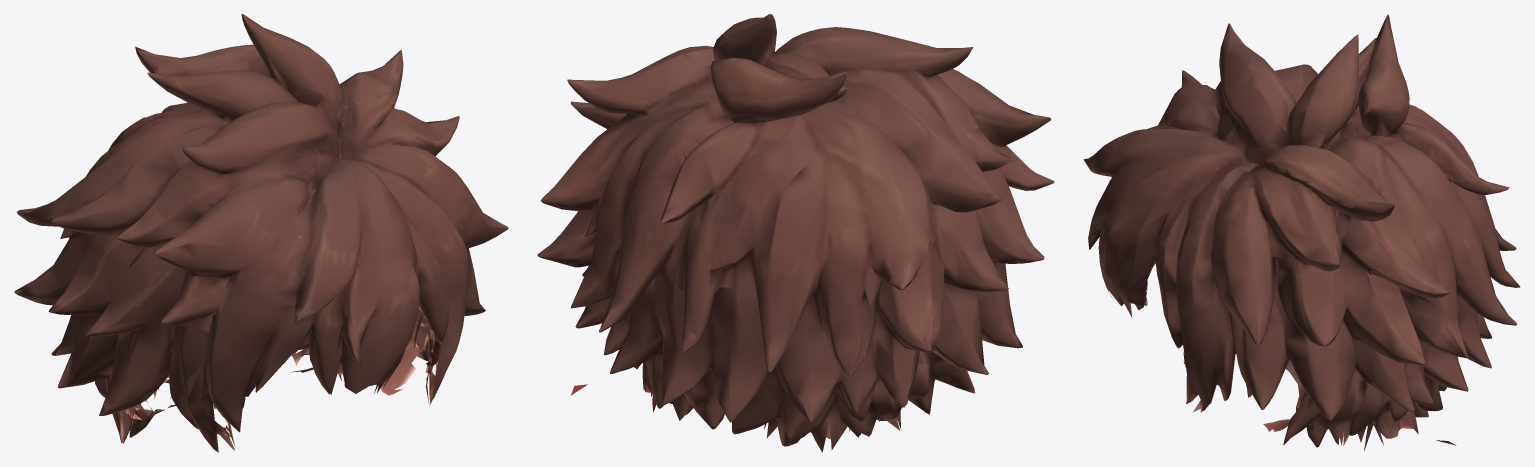
Rendered from hair_tousled.glb.
3 views of the same model, side by side, from view 1: azimuth 30°, elevation 25°; view 2: azimuth 150°, elevation 25°; view 3: azimuth 270°, elevation 25° (orthographic). The views are drawn at different scales.
Parts seen in each view (by area): view 1: Hair_Tousled; view 2: Hair_Tousled; view 3: Hair_Tousled.
Part boxes in pixels (x1,y1,x2,y2): Hair_Tousled: (14, 14, 508, 452); Hair_Tousled: (537, 14, 1054, 452); Hair_Tousled: (1083, 14, 1520, 451).
Size of the model in its own units: 1.03 by 0.9142 by 0.976.
1 material, 1 textured.
